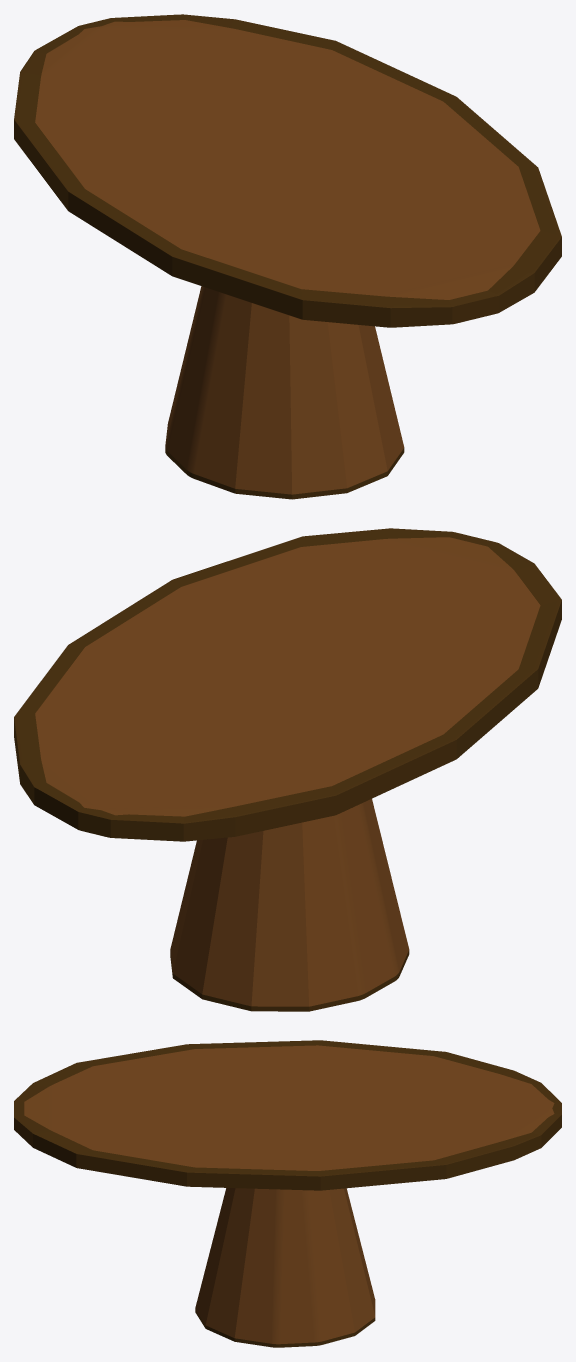
File: SM_CentralTable.fbx
3 views of the same model, one above another, from view 1: azimuth 30°, elevation 25°; view 2: azimuth 150°, elevation 25°; view 3: azimuth 270°, elevation 25° (orthographic). The views are drawn at different scales.
Visible parts, largest first — view 1: SM_MesaCentral; view 2: SM_MesaCentral; view 3: SM_MesaCentral.
Part boxes in pixels (box(x1,y1,x2,y2)): SM_MesaCentral: box(14, 14, 561, 499); SM_MesaCentral: box(14, 528, 561, 1011); SM_MesaCentral: box(14, 1040, 561, 1347).
Size of the model in its own units: 171 by 120 by 290.
